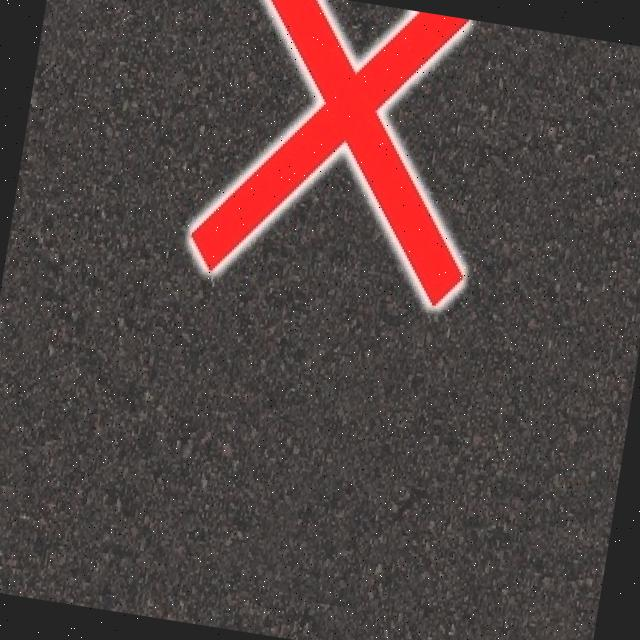x_marker: (185, 0, 501, 309)
